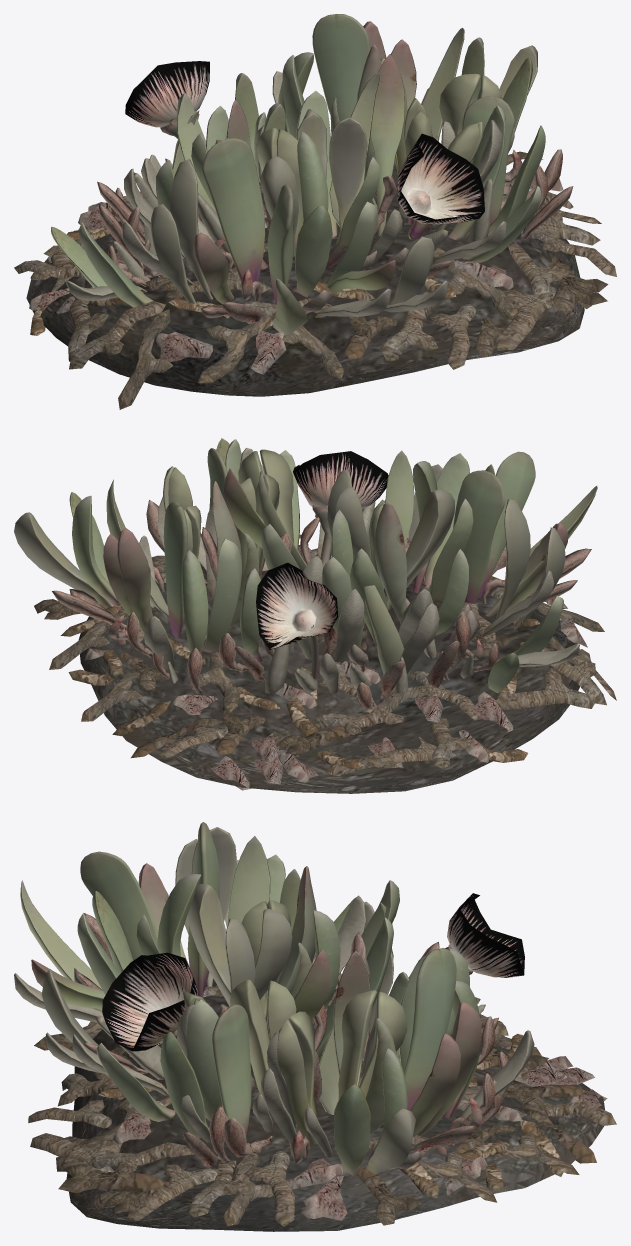
The model's file is cheiridopsis-h.glb.
3 renders of one model, top to bottom at view 1: azimuth 30°, elevation 25°; view 2: azimuth 150°, elevation 25°; view 3: azimuth 270°, elevation 25°, orthographic. The views are drawn at different scales.
Parts seen in each view (by area): view 1: cheiridopsis_succulent_h_LOD0; view 2: cheiridopsis_succulent_h_LOD0; view 3: cheiridopsis_succulent_h_LOD0.
Boxes of the visible parts, bbox=[...] form: cheiridopsis_succulent_h_LOD0: bbox=[14, 14, 616, 409]; cheiridopsis_succulent_h_LOD0: bbox=[14, 438, 616, 793]; cheiridopsis_succulent_h_LOD0: bbox=[14, 822, 616, 1231].
Bounding box in the file's own units: 0.6024 × 0.2385 × 0.5336.
Materials: 2 (2 with a texture image).
